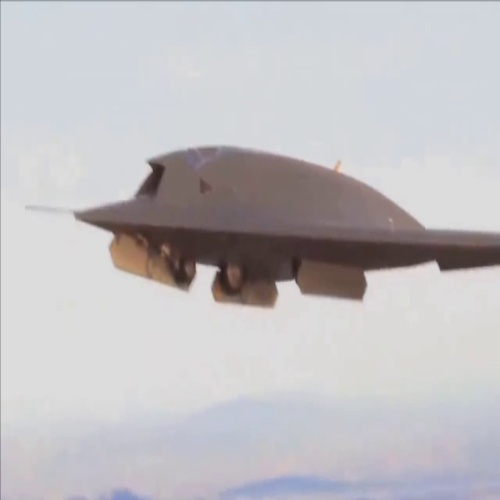uav866: (17, 140, 500, 317)
